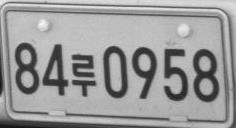0: (102, 45, 128, 99)
4: (41, 43, 68, 95)
5: (162, 47, 189, 102)
8: (192, 48, 219, 103), (14, 41, 40, 95)
9: (131, 46, 158, 99)
루: (70, 53, 96, 97)
